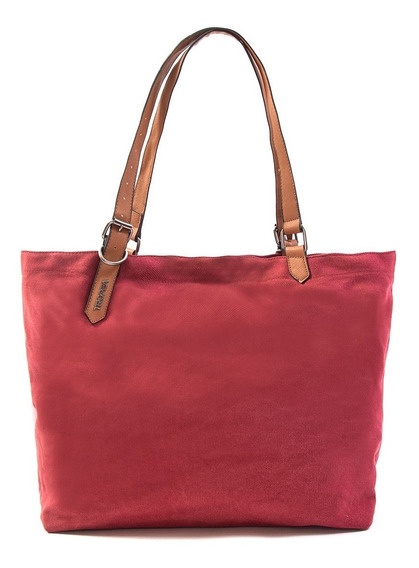cartera: (20, 27, 396, 532)
